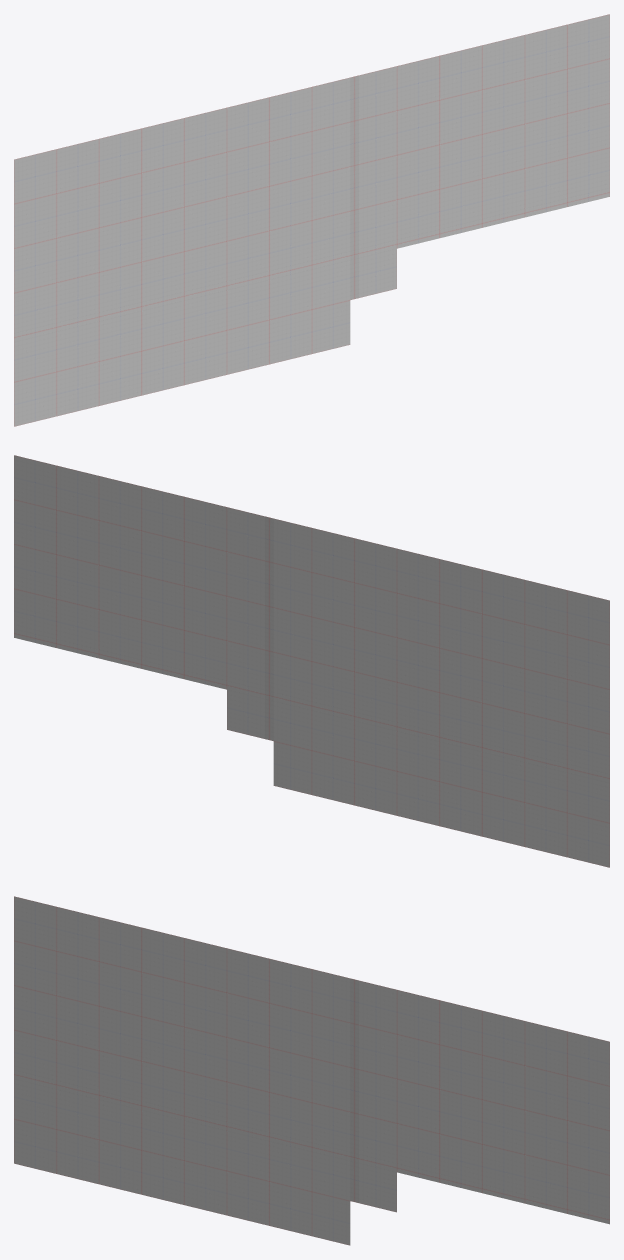
3 views of the same model, one above another, from view 1: azimuth 30°, elevation 25°; view 2: azimuth 150°, elevation 25°; view 3: azimuth 330°, elevation 25° (orthographic).
Visible parts, largest first — view 1: bg_meshgroupShape; view 2: bg_meshgroupShape; view 3: bg_meshgroupShape.
Part boxes in pixels (x1,y1,x2,y2): bg_meshgroupShape: (14, 14, 609, 426); bg_meshgroupShape: (14, 455, 609, 867); bg_meshgroupShape: (14, 896, 609, 1245).
Size of the model in its own units: 1498 by 0.00013 by 642.
Materials: 1 (1 with a texture image).
